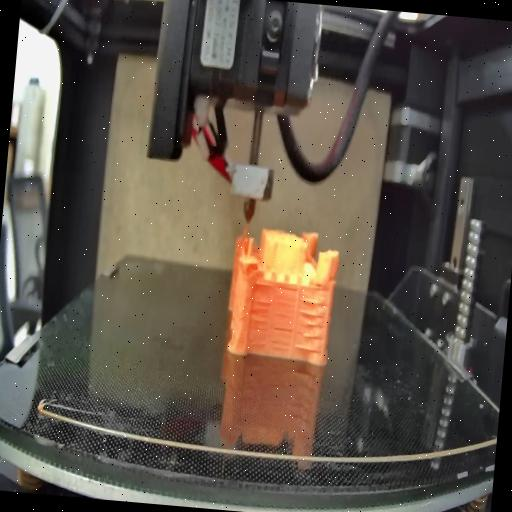cracks: (292, 294, 328, 356), (270, 320, 294, 354), (248, 317, 268, 350), (251, 297, 273, 313), (252, 280, 274, 290), (272, 286, 298, 294)
